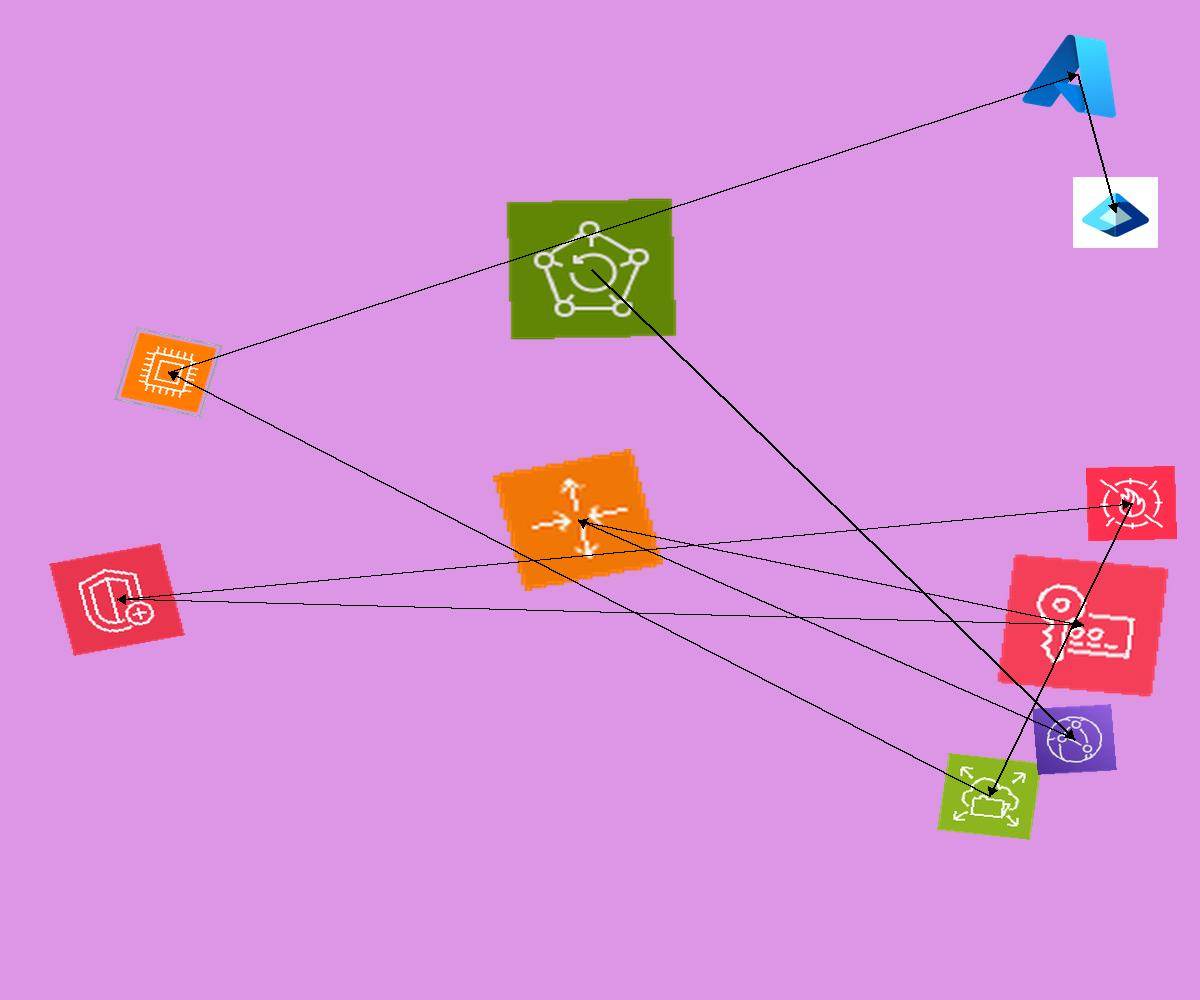AWS-Backup: (505, 197, 678, 341)
AWS-Category_Compute: (114, 327, 223, 418)
AWS-CloudFront: (1032, 704, 1117, 775)
AWS-EFS: (937, 753, 1042, 840)
AWS-Key-Management-Service: (996, 553, 1170, 698)
AWS-Scaling-group: (493, 449, 663, 591)
AWS-Shield: (49, 543, 185, 656)
AWS-WAF: (1086, 466, 1177, 541)
Azure_microsoft_entra: (1073, 177, 1158, 248)
Azure_services: (1016, 23, 1139, 125)
